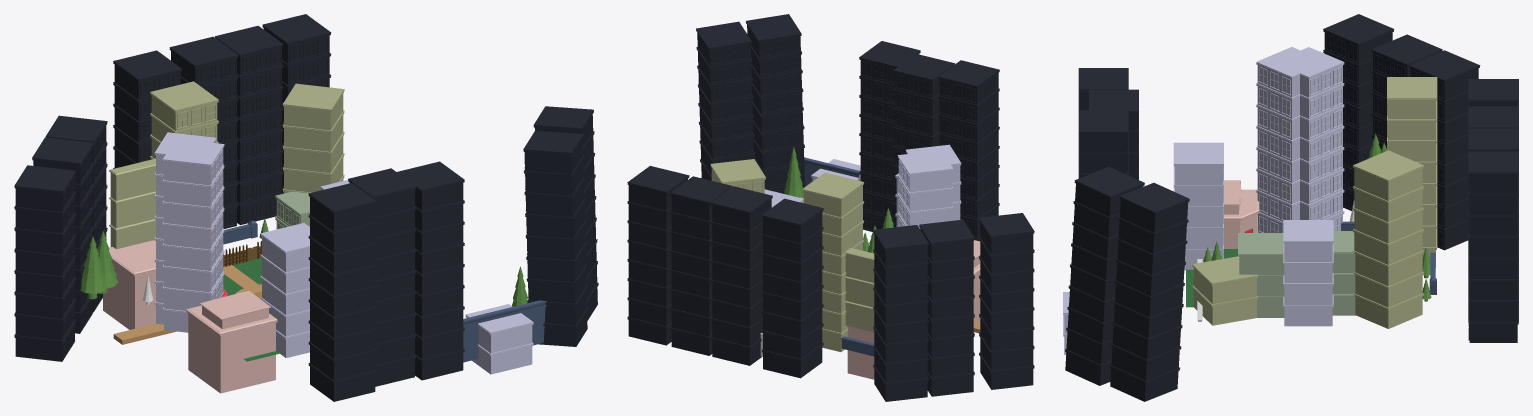
The model's file is CupidCity.fbx.
3 views of the same model, side by side, from view 1: azimuth 30°, elevation 25°; view 2: azimuth 150°, elevation 25°; view 3: azimuth 270°, elevation 25° (orthographic). The views are drawn at different scales.
Parts seen in each view (by area): view 1: Cube.042, Cube.045, Cube.025, Cube.044, Cube.027, Cube.043, Cube.037, Cube, Cube.041, Cube.034, Cube.038, Cube.039 (+15 smaller); view 2: Cube.039, Cube.023, Cube.025, Cube.038, Cube.045, Cube.024, Cube.042, Cube.013, Cube.046, Cube.037, Cube.044, Cube.018 (+11 smaller); view 3: Cube.046, Cube.041, Cube.045, Cube.013, Cube.020, Cube.027, Cube.023, Cube.025, Cube.018, Cube.002, Cube.034, Cube.017 (+11 smaller).
Boxes of the visible parts, box(x1,y1,x2,y2) form: Cube.042: box(308, 183, 376, 401); Cube.045: box(523, 130, 588, 346); Cube.025: box(14, 165, 76, 361); Cube.044: box(397, 161, 464, 380); Cube.027: box(162, 143, 224, 332); Cube.043: box(348, 168, 416, 386); Cube.037: box(214, 25, 283, 225); Cube: box(186, 291, 277, 393); Cube.041: box(282, 83, 344, 193); Cube.034: box(260, 223, 309, 357); Cube.038: box(169, 36, 238, 228); Cube.039: box(113, 50, 181, 168); Cube.039: box(761, 198, 823, 378); Cube.023: box(873, 225, 928, 401); Cube.025: box(979, 213, 1034, 389); Cube.038: box(711, 186, 772, 365); Cube.045: box(745, 14, 806, 193); Cube.024: box(919, 219, 974, 396); Cube.042: box(938, 60, 999, 241); Cube.013: box(627, 166, 689, 345); Cube.046: box(696, 21, 755, 180); Cube.037: box(670, 176, 732, 355); Cube.044: box(859, 41, 920, 231); Cube.018: box(802, 172, 864, 351); Cube.046: box(1109, 182, 1189, 401); Cube.041: box(1352, 150, 1423, 328); Cube.045: box(1065, 167, 1144, 385); Cube.013: box(1468, 151, 1518, 342); Cube.020: box(1273, 47, 1344, 230); Cube.027: box(1256, 47, 1300, 232); Cube.023: box(1409, 50, 1480, 250); Cube.025: box(1323, 14, 1394, 210); Cube.018: box(1387, 77, 1437, 267); Cube.002: box(1283, 220, 1333, 326); Cube.034: box(1173, 142, 1223, 270); Cube.017: box(1192, 256, 1258, 325).
Size of the model in its own units: 15190 by 6471 by 12573.
